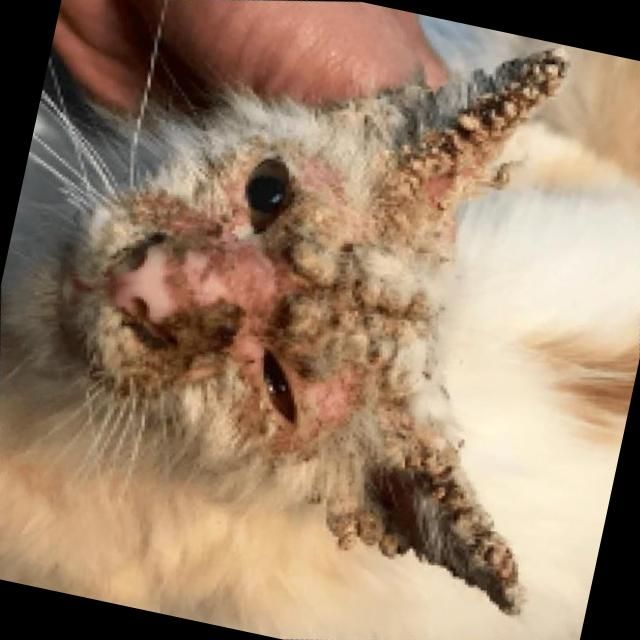Mange: (381, 50, 571, 208), (428, 452, 525, 610), (276, 290, 363, 376), (129, 191, 225, 263), (140, 293, 240, 354), (216, 242, 296, 318), (371, 282, 447, 342), (330, 505, 411, 560), (294, 194, 347, 276), (308, 363, 361, 422), (294, 158, 347, 198)
